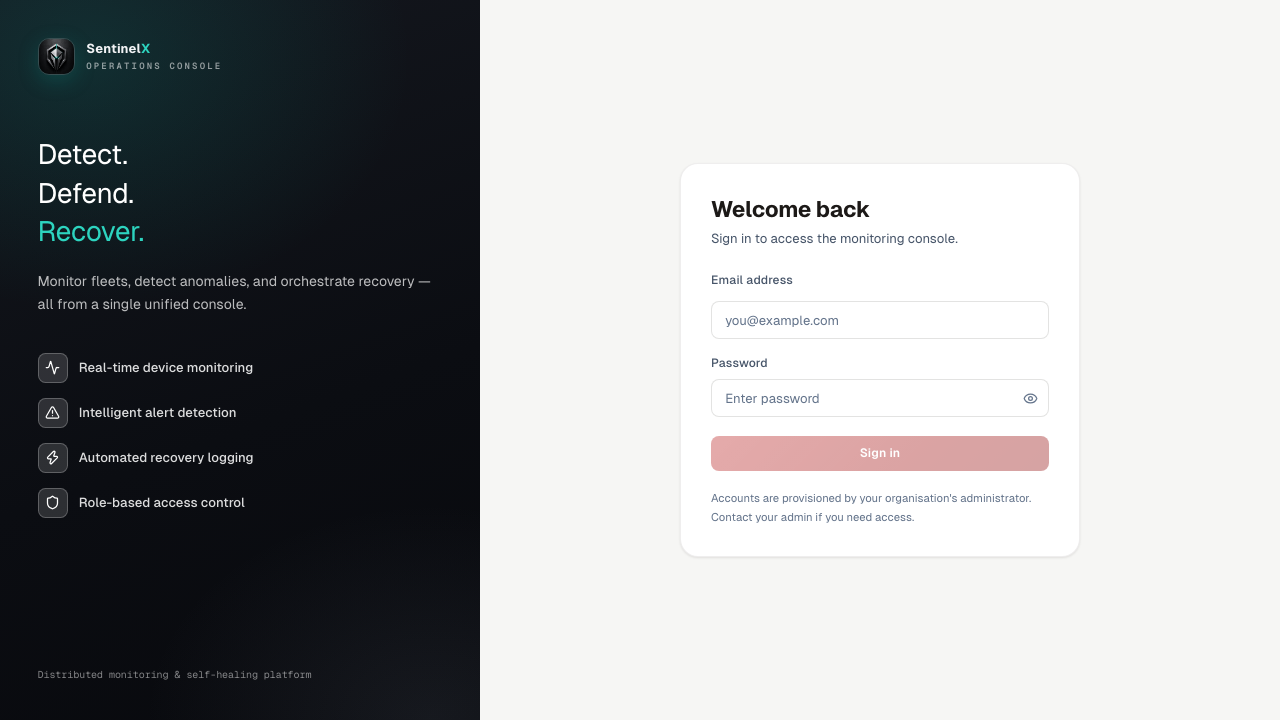
it: failure states › explains a rate limit instead of looking broken
This screenshot has width=1280, height=720.
Type "ops@technova.io" into the field labelled "Email address" at (880, 320), box [711,302,1049,340]
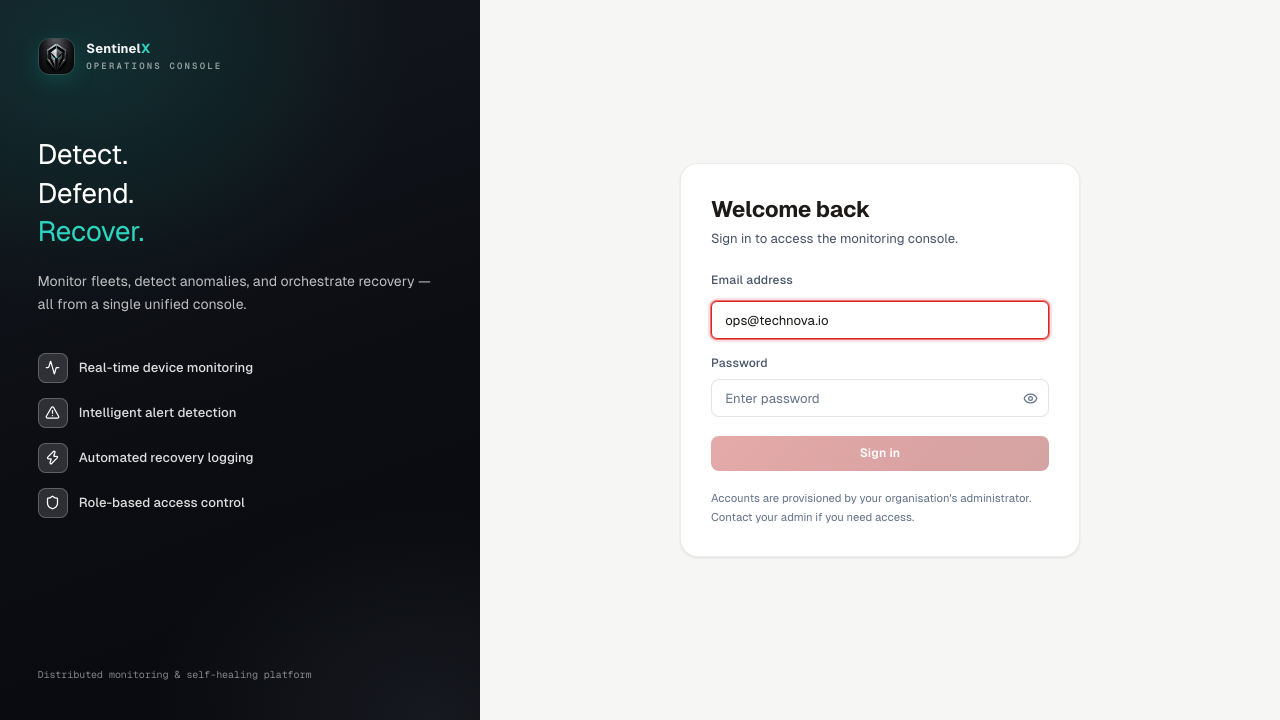
Type "SentinelX2026!" into the password field labelled "Password" at (880, 398), box [711,379,1049,417]
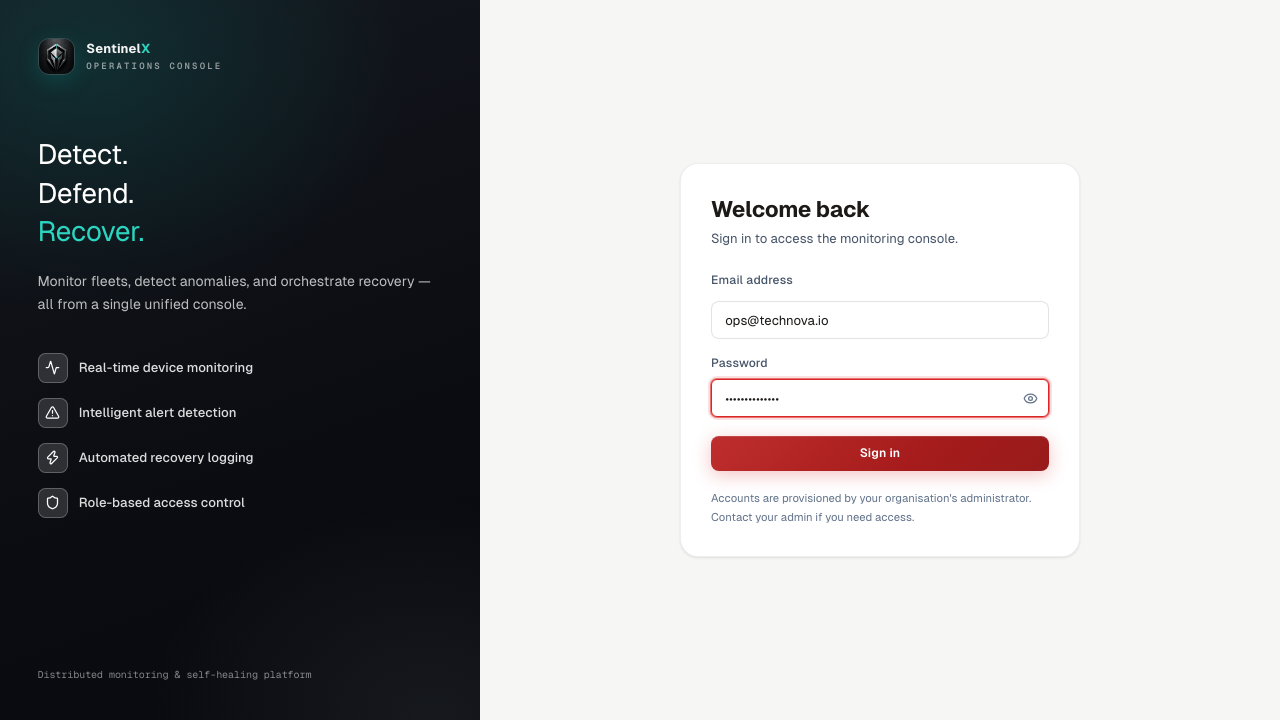
Click the button "Sign in" at (880, 453), box [711,436,1049,470]
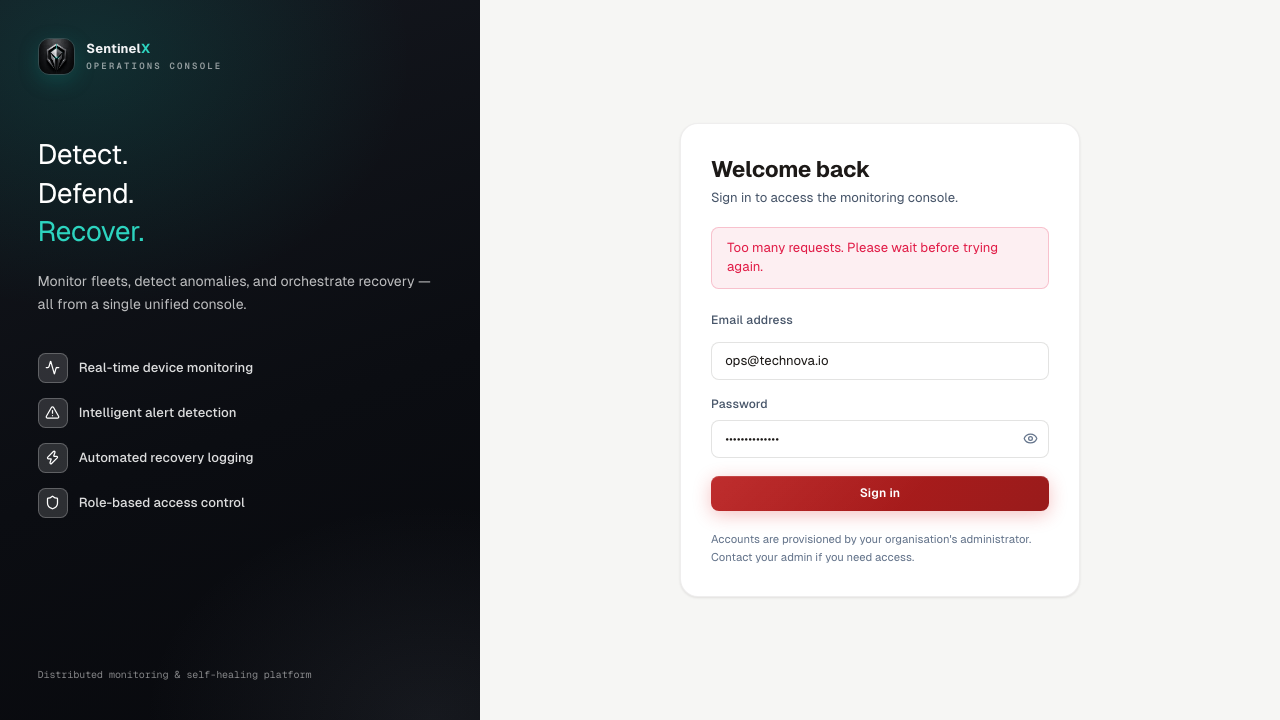
Result: the text "Too many requests. Please wait before trying again." is shown at [711,227,1049,289]
